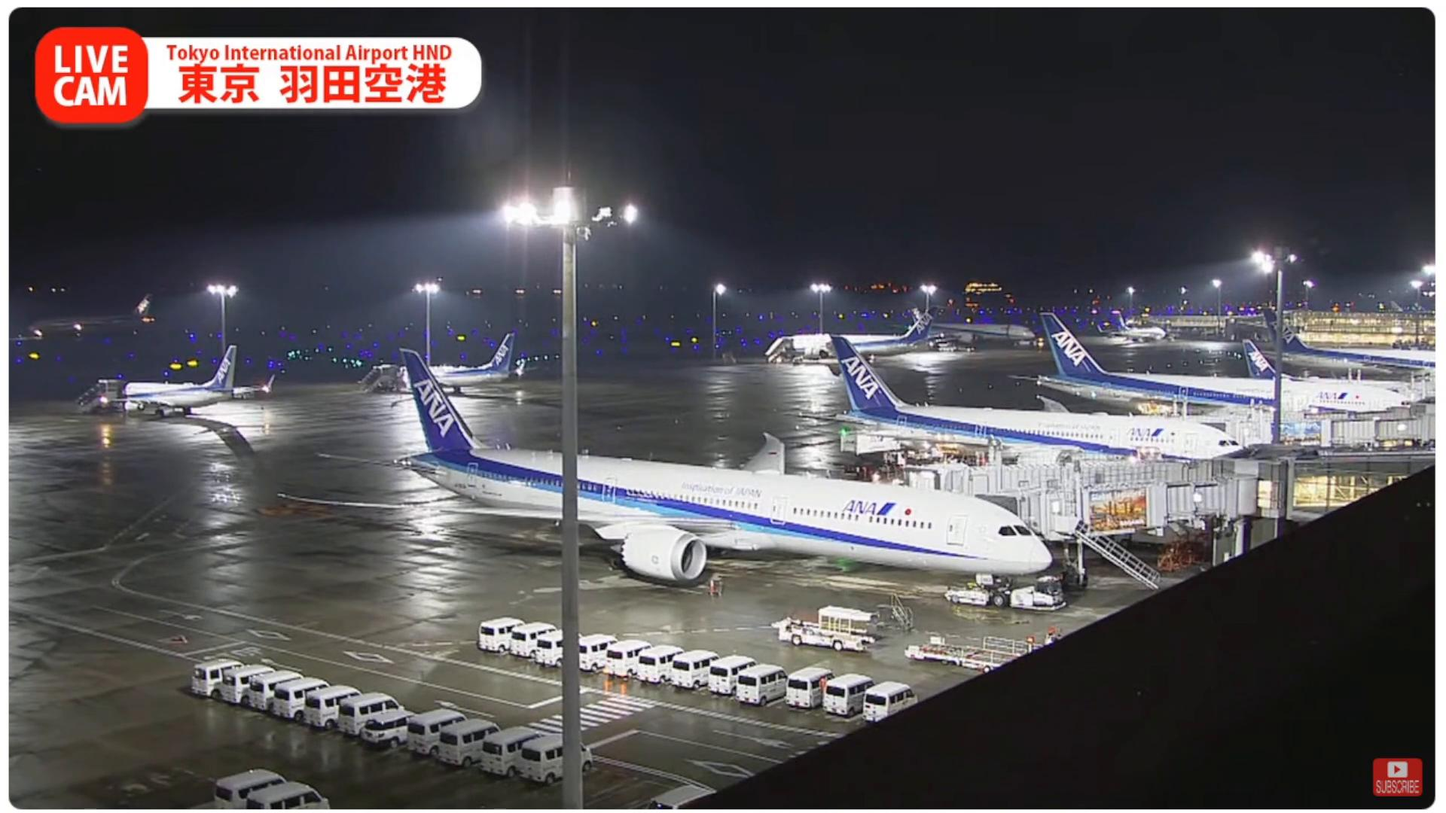Aerobridge: (899, 456, 1287, 522), (991, 479, 1253, 538)
Airplane: (269, 349, 1055, 587)
JCPL: (895, 638, 1015, 674), (958, 631, 1052, 653)
Skyloader: (764, 601, 892, 654)
Tow Tug: (945, 573, 1072, 619)
Window: (1290, 451, 1437, 524)
